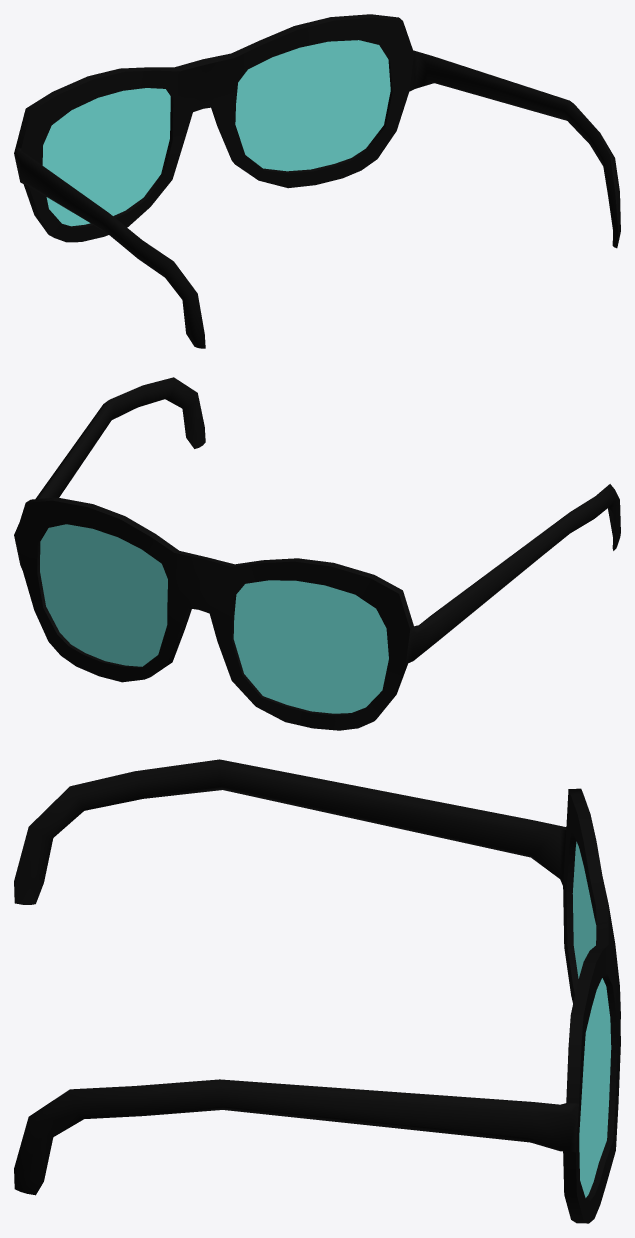
The model's file is glasses_nerd.obj.
3 renders of one model, top to bottom at view 1: azimuth 30°, elevation 25°; view 2: azimuth 150°, elevation 25°; view 3: azimuth 270°, elevation 25°, orthographic. The views are drawn at different scales.
Parts seen in each view (by area): view 1: 0, 1; view 2: 0, 1; view 3: 0, 1.
Part boxes in pixels (x1,y1,x2,y2): 0: [14, 14, 620, 348]; 1: [42, 40, 390, 226]; 0: [14, 377, 620, 730]; 1: [40, 524, 388, 713]; 0: [14, 759, 620, 1223]; 1: [572, 841, 611, 1197].
Size of the model in its own units: 0.4647 by 0.1541 by 0.3645.
